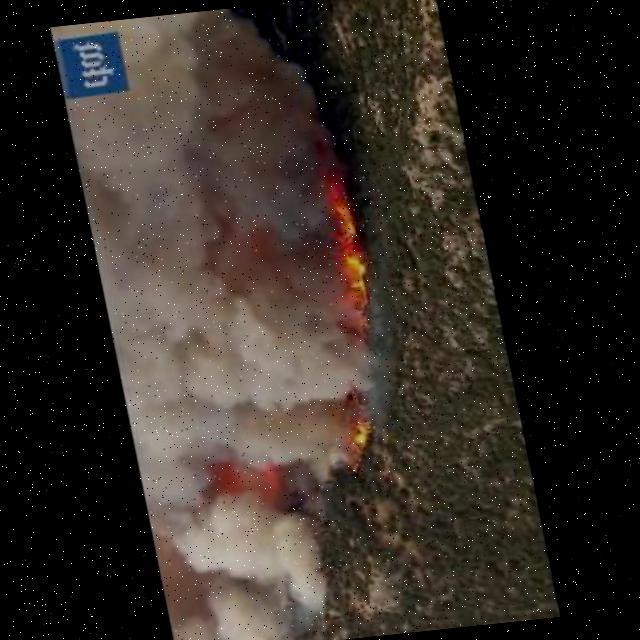fire: (318, 174, 378, 339), (342, 413, 380, 470)
